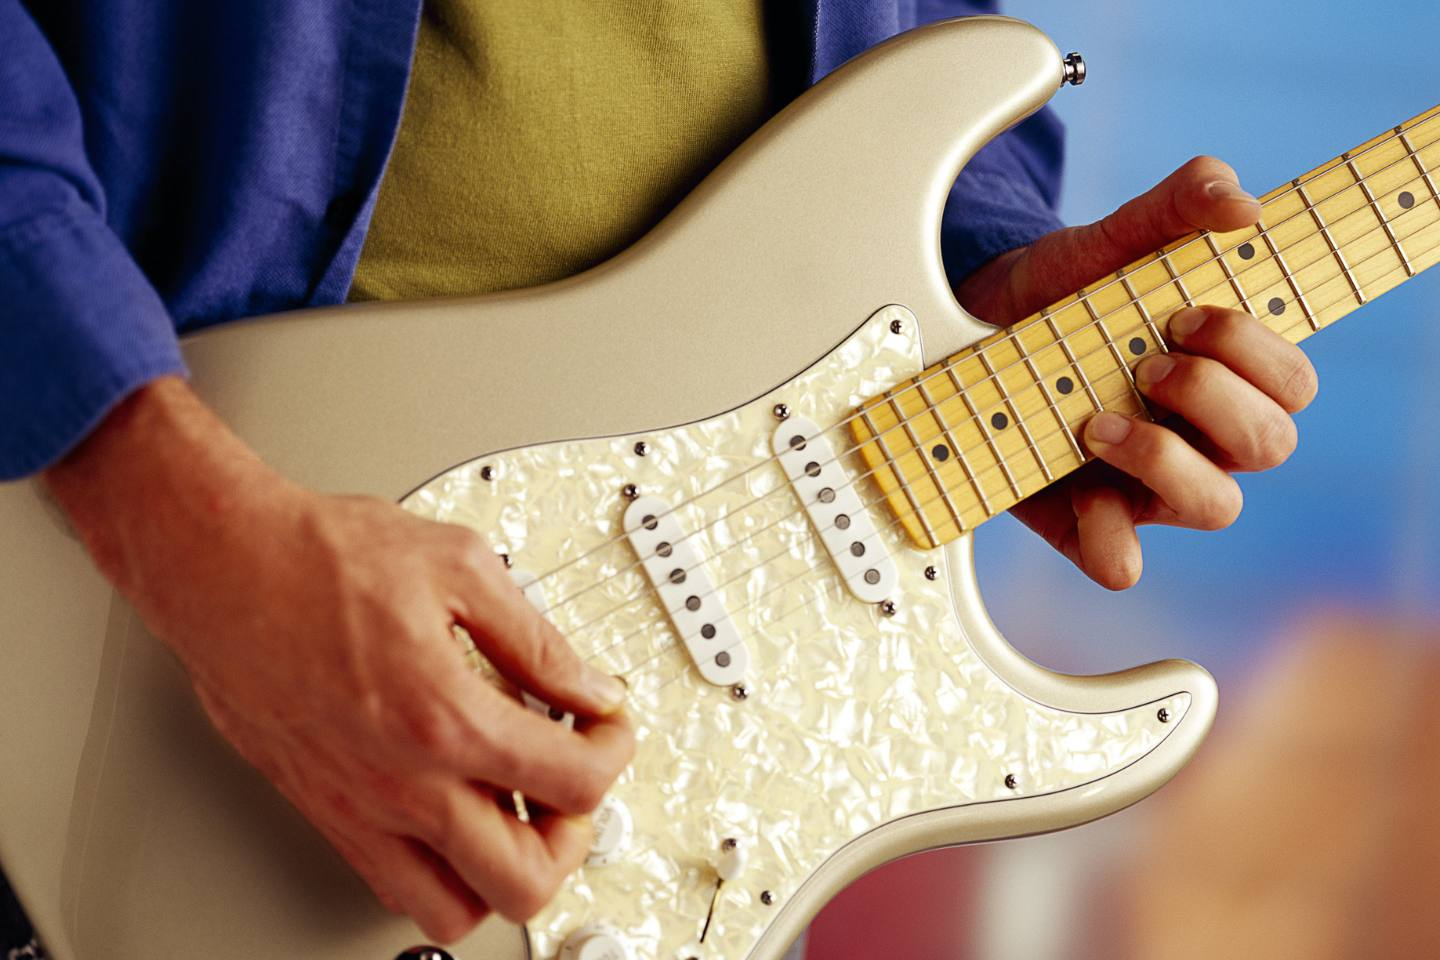guitar: (336, 51, 1440, 960)
